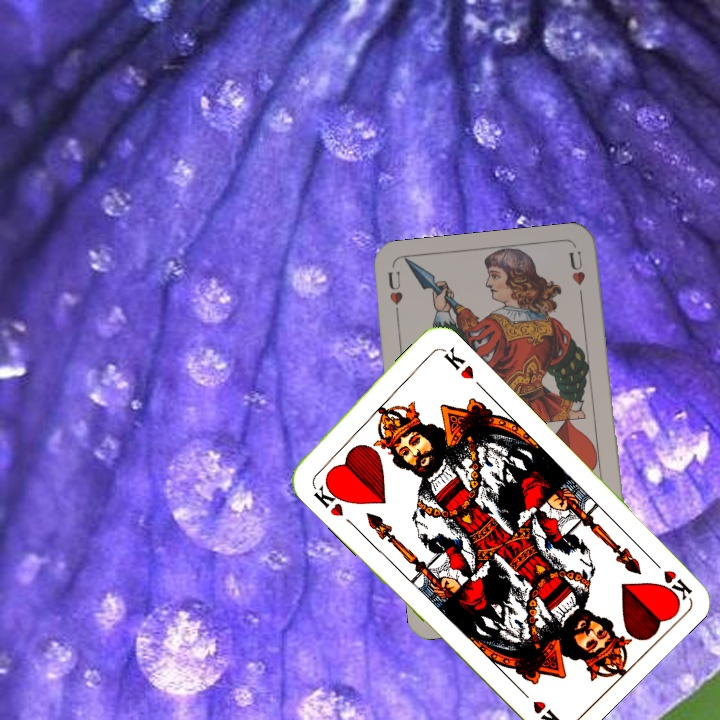HK: (644, 552, 694, 605), (307, 476, 350, 519)
HU: (384, 267, 405, 325)
